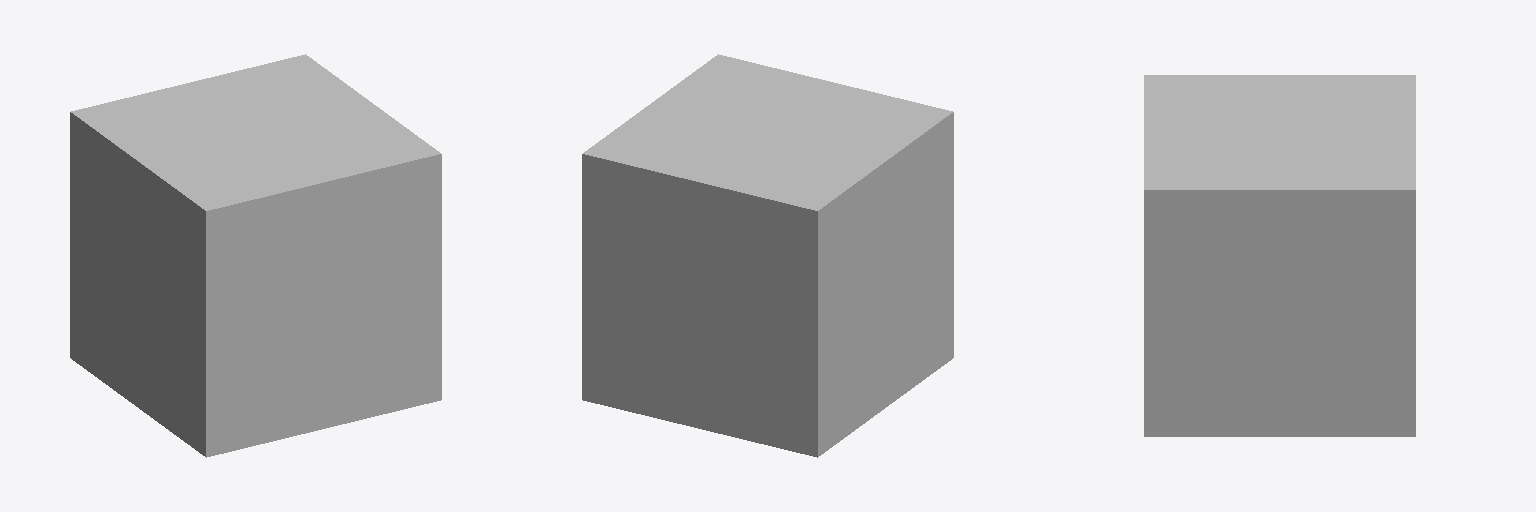
The model's file is cubes_wall6.obj.
3 renders of one model, left to right at view 1: azimuth 30°, elevation 25°; view 2: azimuth 150°, elevation 25°; view 3: azimuth 270°, elevation 25°, orthographic.
Bounding box in the file's own units: 0.1 × 0.1 × 0.1.